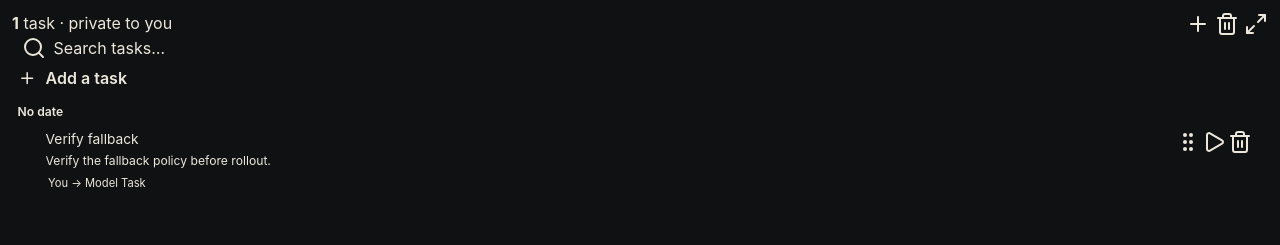
Test: TaskDock › reports copy failures instead of failing silently
Click the button with aria-label "Copy task objective" at (158, 160), box x1=46 y1=152 x2=1166 y2=169
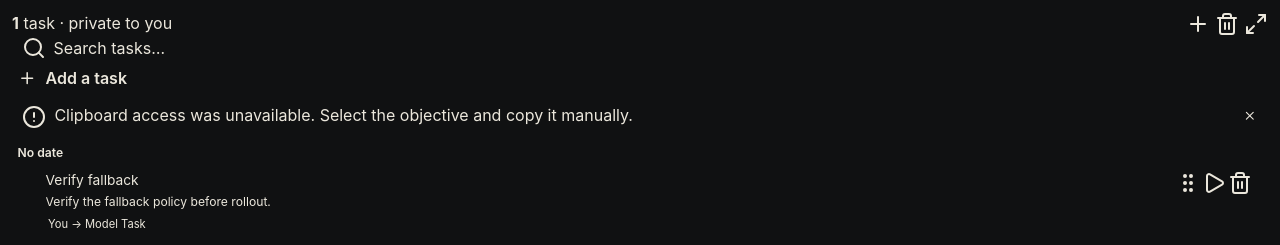
Expected: the message shows "Clipboard access was unavailable", x1=54 y1=105 x2=633 y2=125
